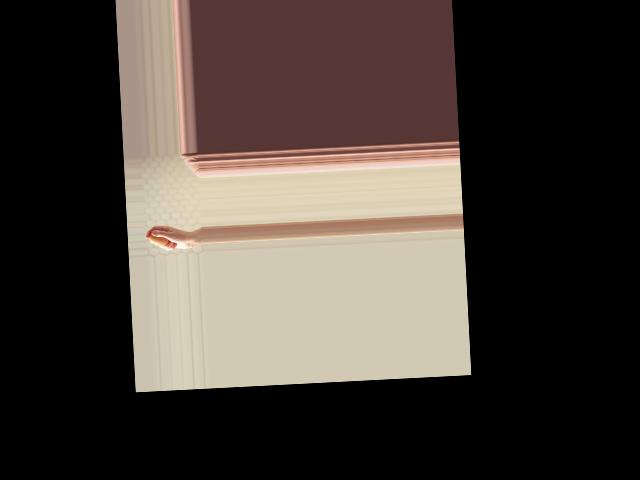egg: (148, 231, 169, 247)
